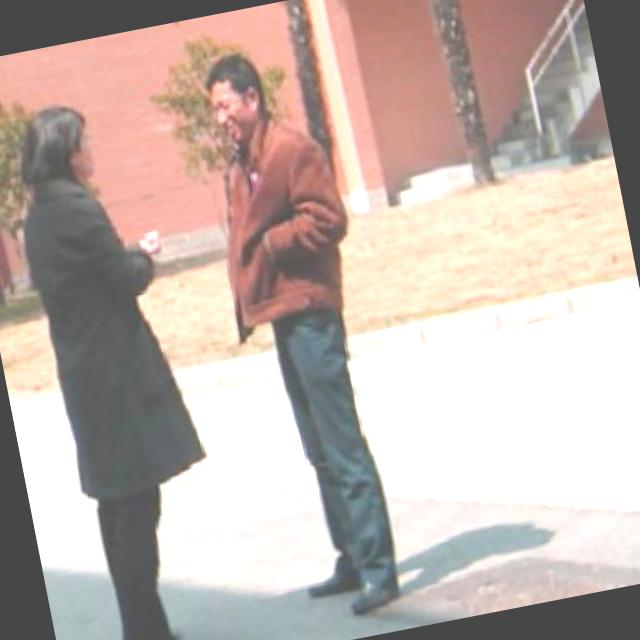Person: (176, 31, 420, 629), (0, 81, 242, 640)
